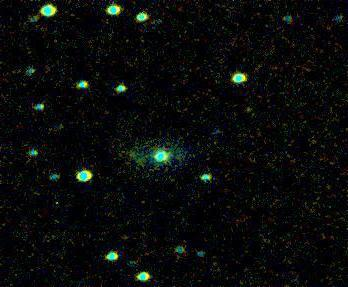star: (233, 95, 263, 125)
